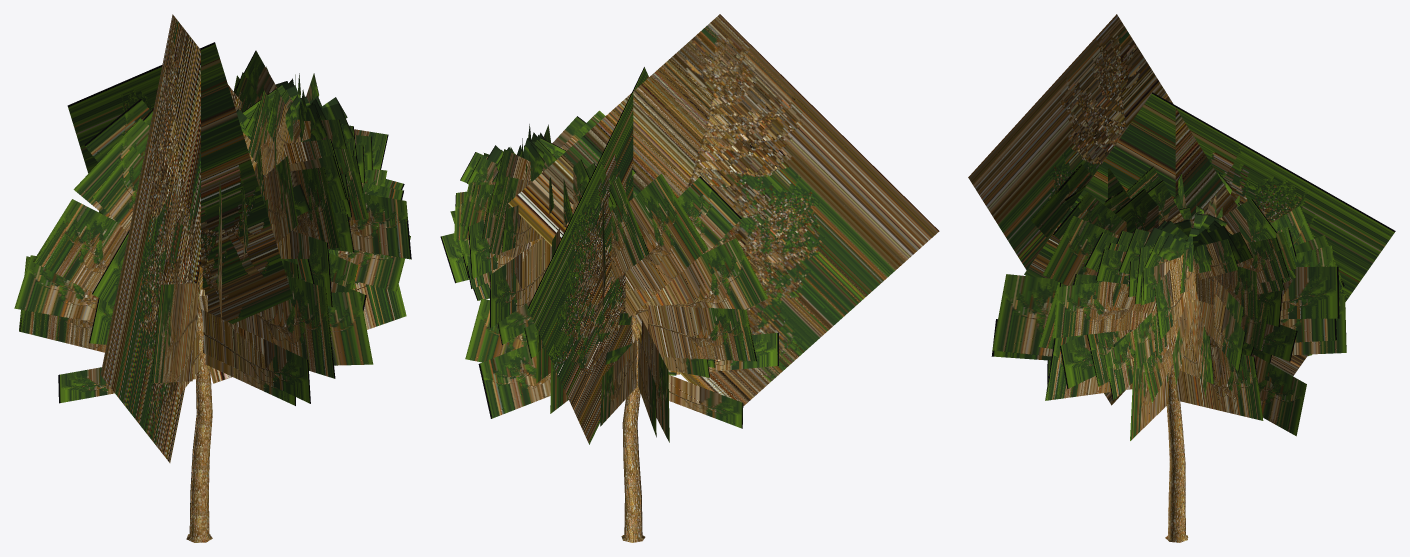
Rendered from Pine_aleppo_79_1.obj.
The picture shows the model from 3 angles, left to right: view 1: azimuth 30°, elevation 25°; view 2: azimuth 150°, elevation 25°; view 3: azimuth 270°, elevation 25°; orthographic projection. The views are drawn at different scales.
Visible parts, largest first — view 1: Pine_aleppo_79_1_1, Pine_aleppo_79_1_2; view 2: Pine_aleppo_79_1_1, Pine_aleppo_79_1_2; view 3: Pine_aleppo_79_1_1, Pine_aleppo_79_1_2.
Boxes of the visible parts, x1,y1,x2,y2 form: Pine_aleppo_79_1_1: (14,14,411,462); Pine_aleppo_79_1_2: (186,308,212,542); Pine_aleppo_79_1_1: (440,14,939,444); Pine_aleppo_79_1_2: (621,313,645,542); Pine_aleppo_79_1_1: (968,14,1395,440); Pine_aleppo_79_1_2: (1165,264,1195,542).
Bounding box in the file's own units: 9.85 × 12.63 × 9.84.
